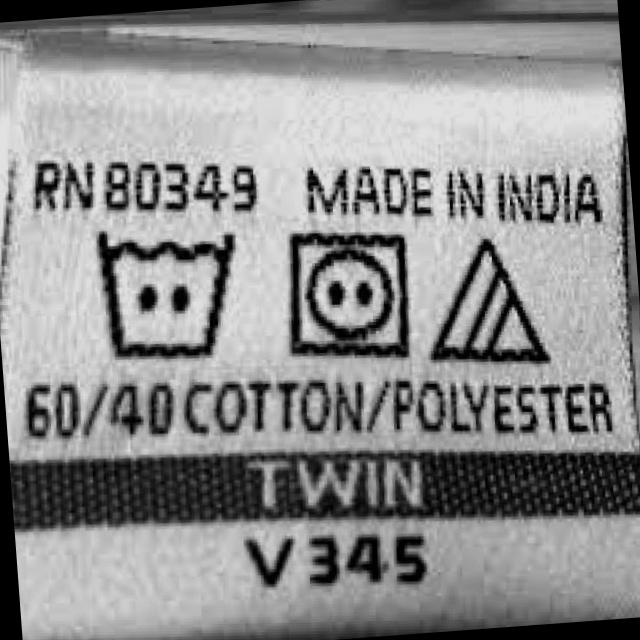40C: (77, 212, 254, 376)
non_chlorine_bleach: (414, 228, 562, 379)
tumble_dry_medium: (272, 218, 425, 369)
